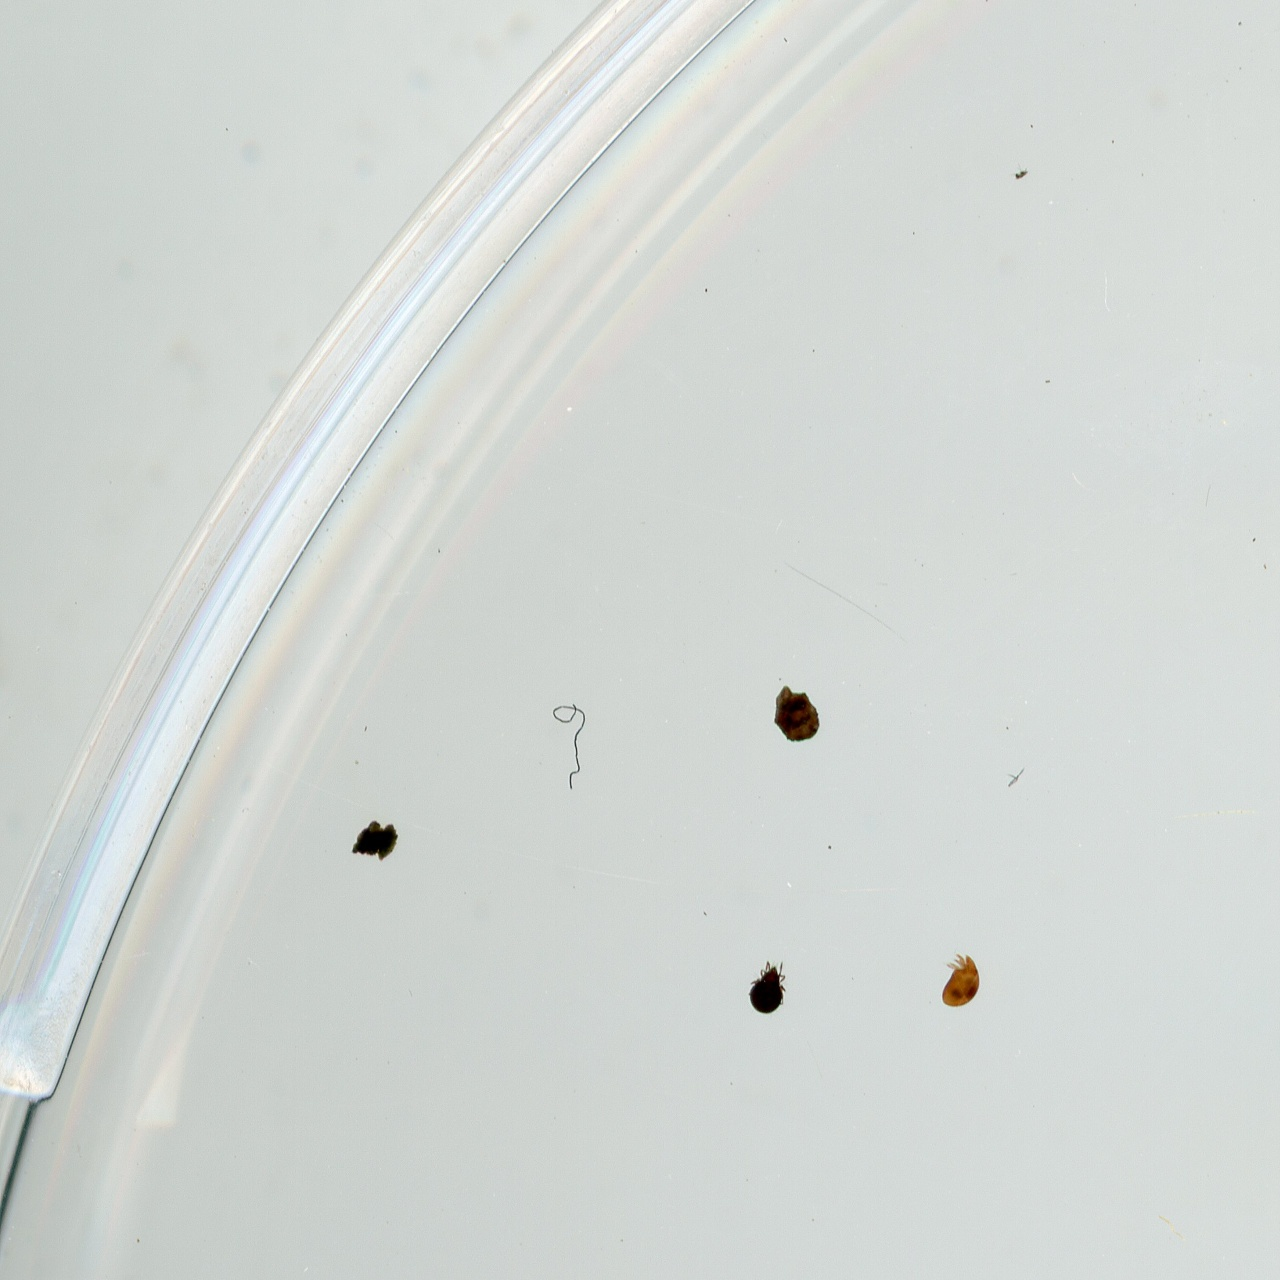arthropod: (937, 951, 985, 1014), (746, 958, 790, 1015)
